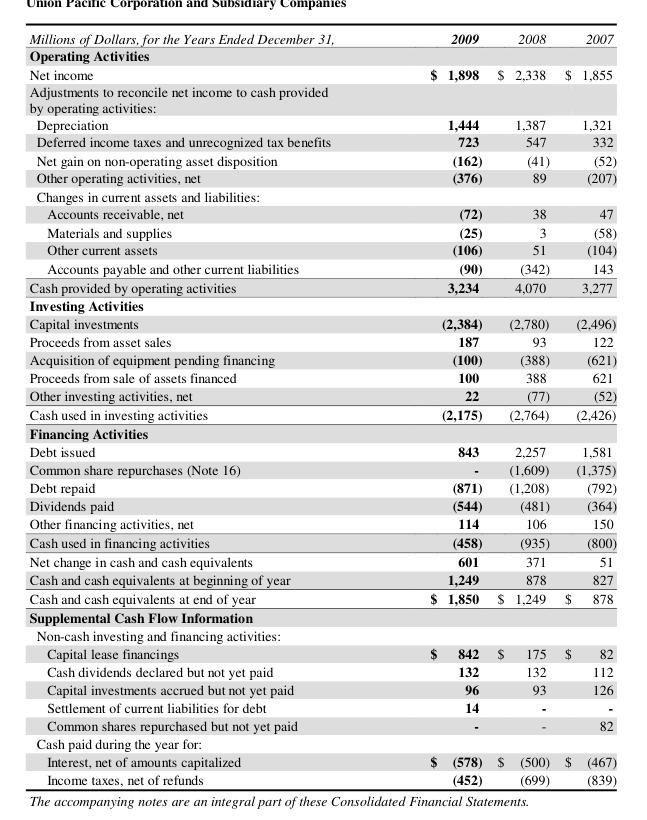table: (28, 29, 616, 788)
table column: (28, 29, 381, 788), (381, 29, 489, 788), (489, 29, 556, 788), (556, 29, 616, 788)
table column header: (28, 29, 616, 46)
table projected row header: (28, 82, 616, 114), (28, 423, 616, 442), (28, 46, 616, 64), (28, 186, 616, 204), (28, 296, 616, 314), (28, 607, 616, 625), (28, 625, 616, 643), (28, 733, 616, 751)
table row: (28, 82, 616, 114), (28, 258, 616, 277), (28, 277, 616, 296), (28, 404, 616, 423), (28, 423, 616, 442), (28, 532, 616, 551), (28, 551, 616, 570), (28, 588, 616, 607), (28, 769, 616, 788), (28, 46, 616, 64), (28, 64, 616, 82), (28, 114, 616, 132), (28, 132, 616, 150), (28, 150, 616, 168), (28, 168, 616, 186), (28, 186, 616, 204), (28, 204, 616, 222), (28, 222, 616, 240), (28, 240, 616, 258), (28, 296, 616, 314), (28, 314, 616, 332), (28, 332, 616, 350), (28, 350, 616, 368), (28, 368, 616, 386), (28, 386, 616, 404), (28, 442, 616, 460), (28, 460, 616, 478), (28, 478, 616, 496), (28, 496, 616, 514), (28, 514, 616, 532), (28, 570, 616, 588), (28, 607, 616, 625), (28, 625, 616, 643), (28, 643, 616, 661), (28, 661, 616, 679), (28, 679, 616, 697), (28, 697, 616, 715), (28, 715, 616, 733), (28, 733, 616, 751), (28, 751, 616, 769), (28, 29, 616, 46)
